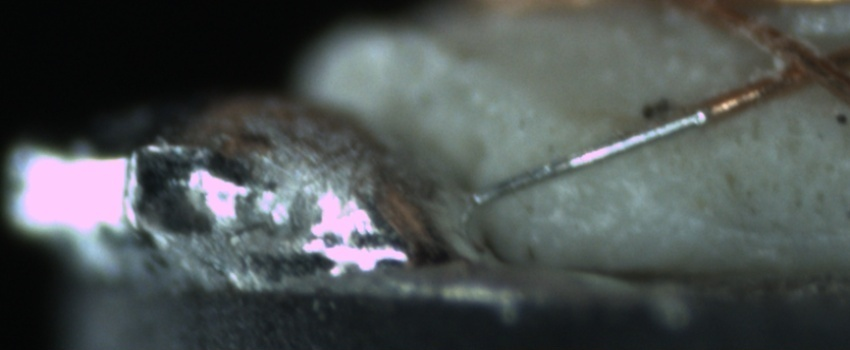CL: (757, 29, 849, 97)
TS: (469, 109, 698, 204)
